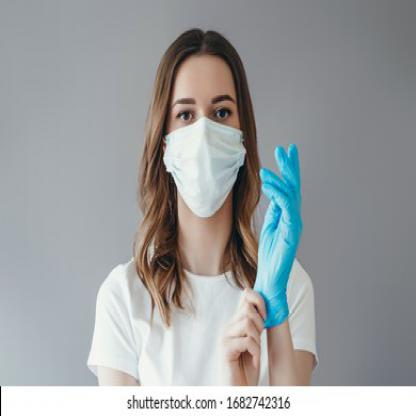with_gloves: (252, 143, 303, 328)
